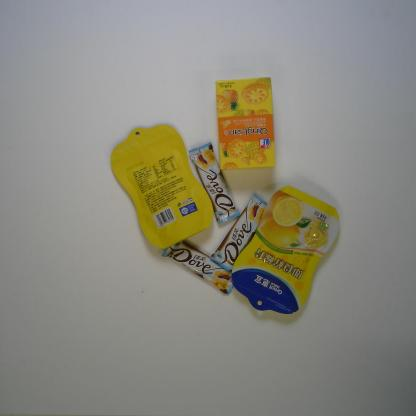Chocolate: (159, 236, 236, 298), (210, 192, 268, 272), (187, 140, 241, 224)
Dessert: (214, 77, 276, 171)
Dried Fruit: (228, 184, 342, 319), (108, 120, 214, 250)
